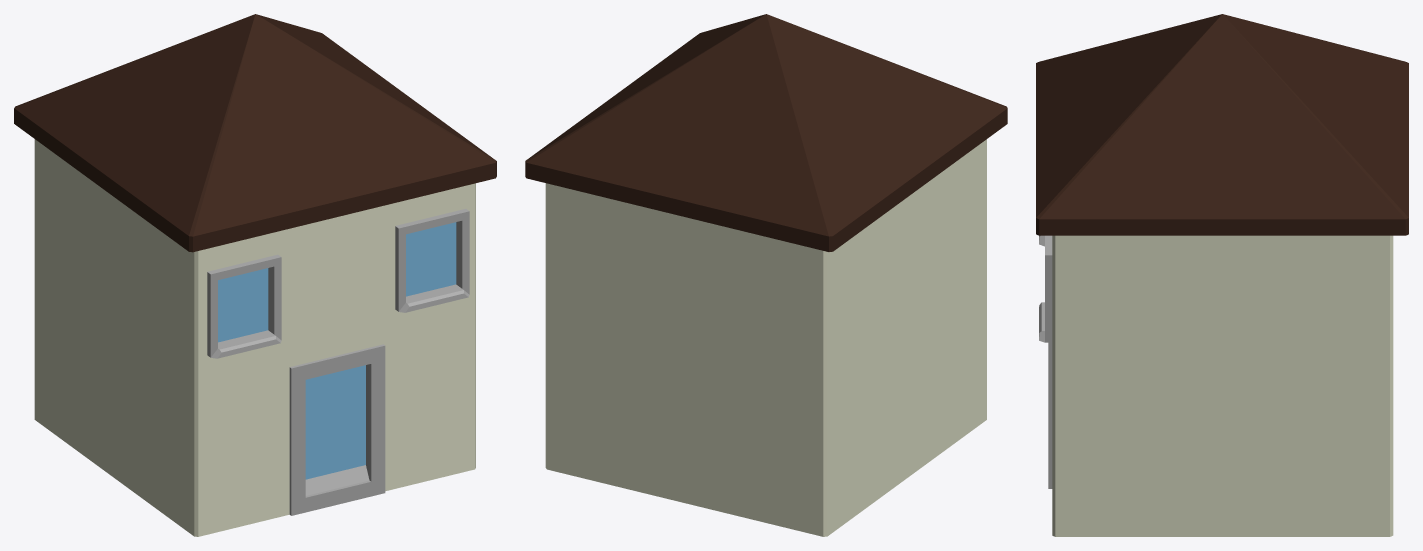
File: buildings_04.fbx
3 views of the same model, side by side, from view 1: azimuth 30°, elevation 25°; view 2: azimuth 150°, elevation 25°; view 3: azimuth 270°, elevation 25° (orthographic). The views are drawn at different scales.
Visible parts, largest first — view 1: building_003; view 2: building_003; view 3: building_003.
Part boxes in pixels (x1,y1,x2,y2): building_003: (14, 14, 496, 536); building_003: (525, 14, 1007, 536); building_003: (1036, 14, 1408, 536).
Bounding box in the file's own units: 109 × 146 × 109.
